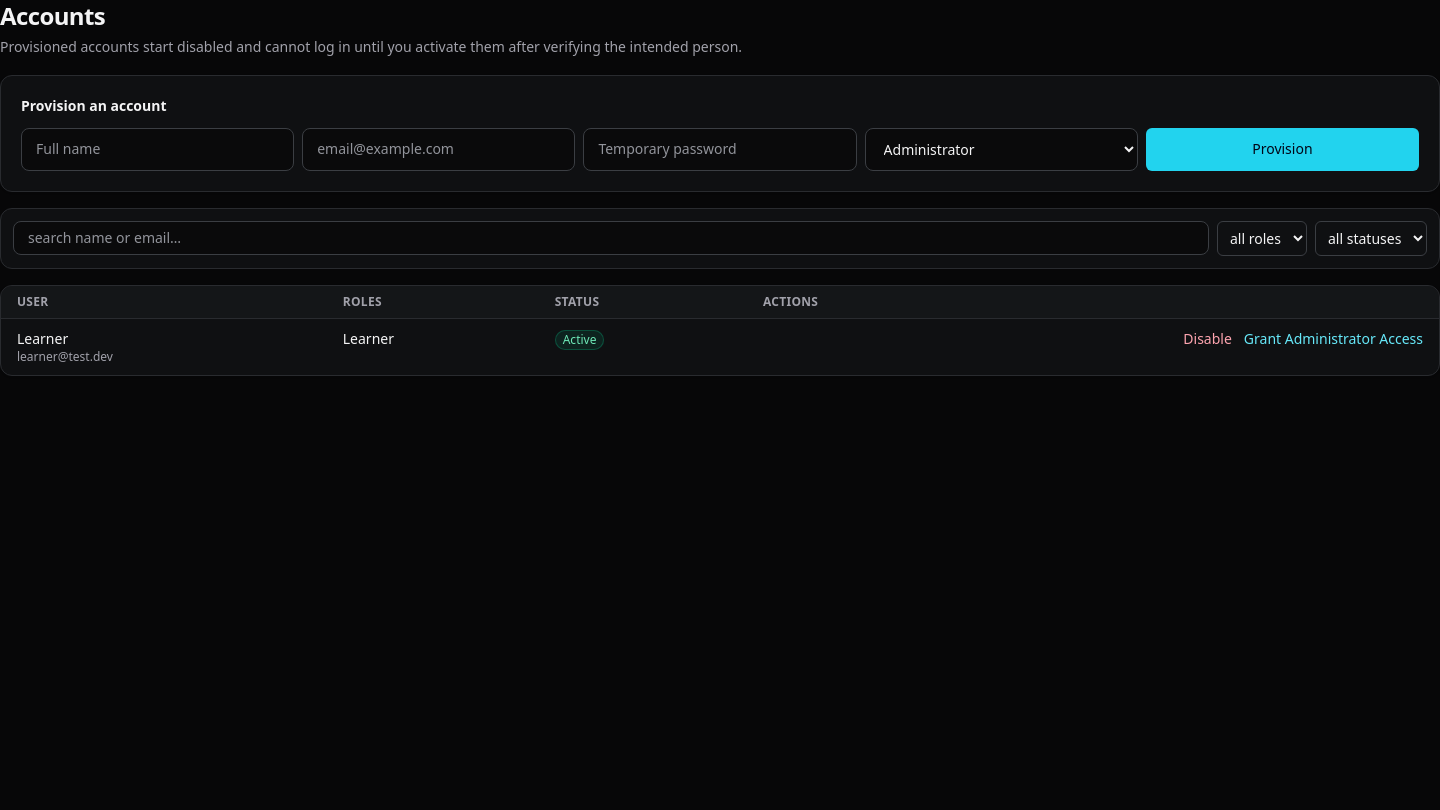
Test case: localizes role-change confirmation and success feedback in Vietnamese
Click the button "Grant Administrator Access": [1333, 339] box [1244, 329, 1423, 349]
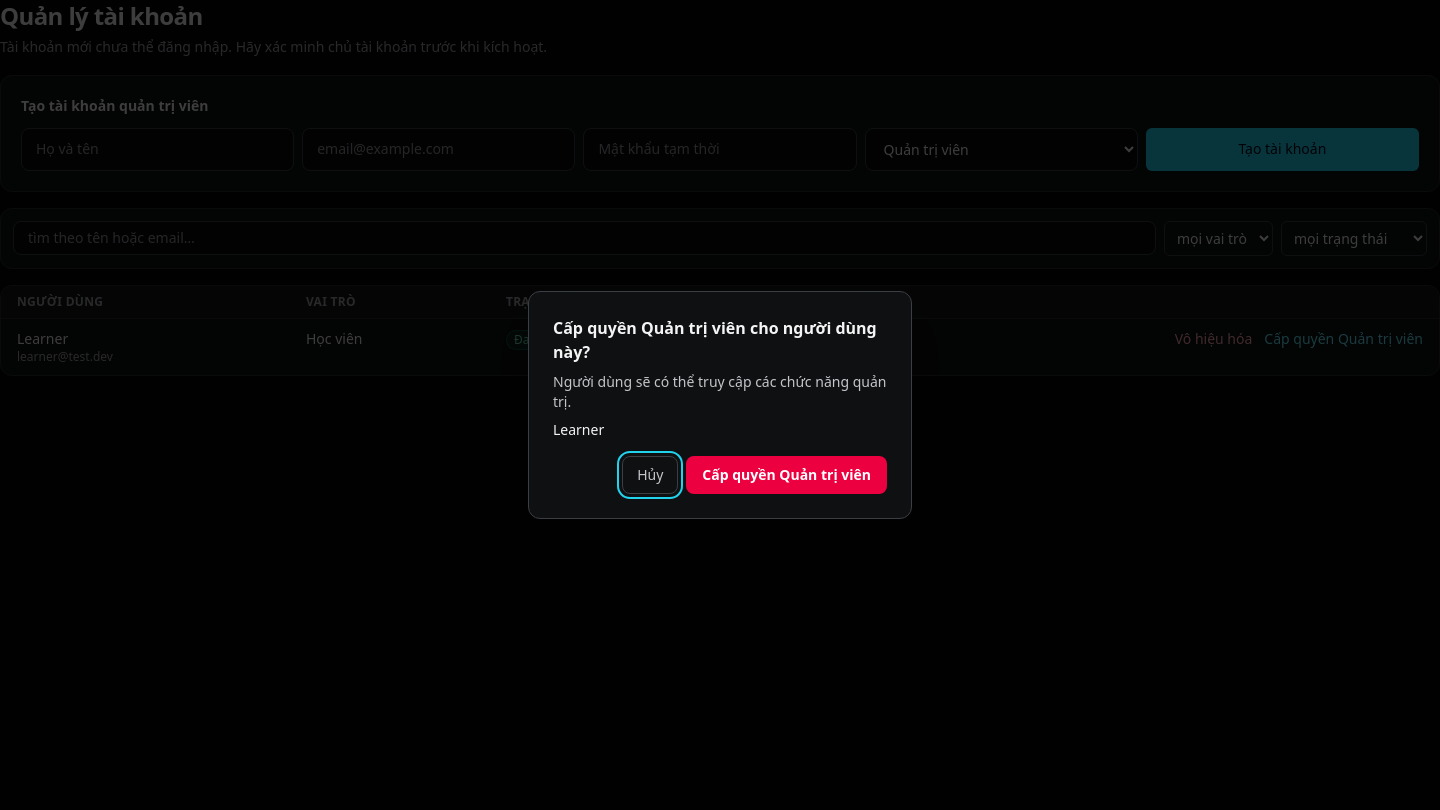
expect the dialog "Cấp quyền Quản trị viên cho người dùng này?" shows "Người dùng sẽ có thể truy cập các chức năng quản trị.": met, box [553, 372, 886, 411]
Click the button "Cấp quyền Quản trị viên": [787, 475] box [686, 456, 887, 494]
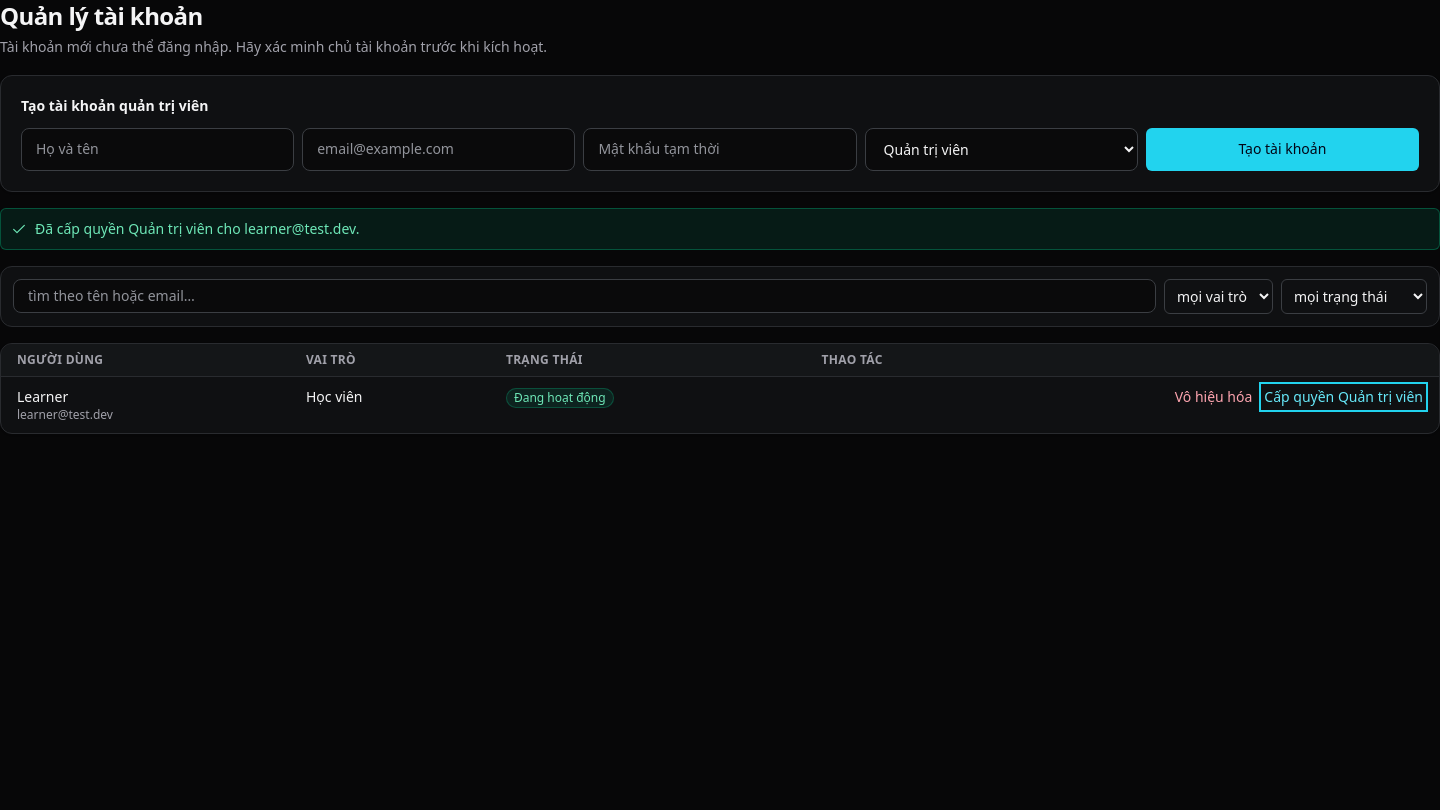
expect the message reads "Đã cấp quyền Quản trị viên cho learner@test.dev.": met, box [35, 219, 359, 238]
